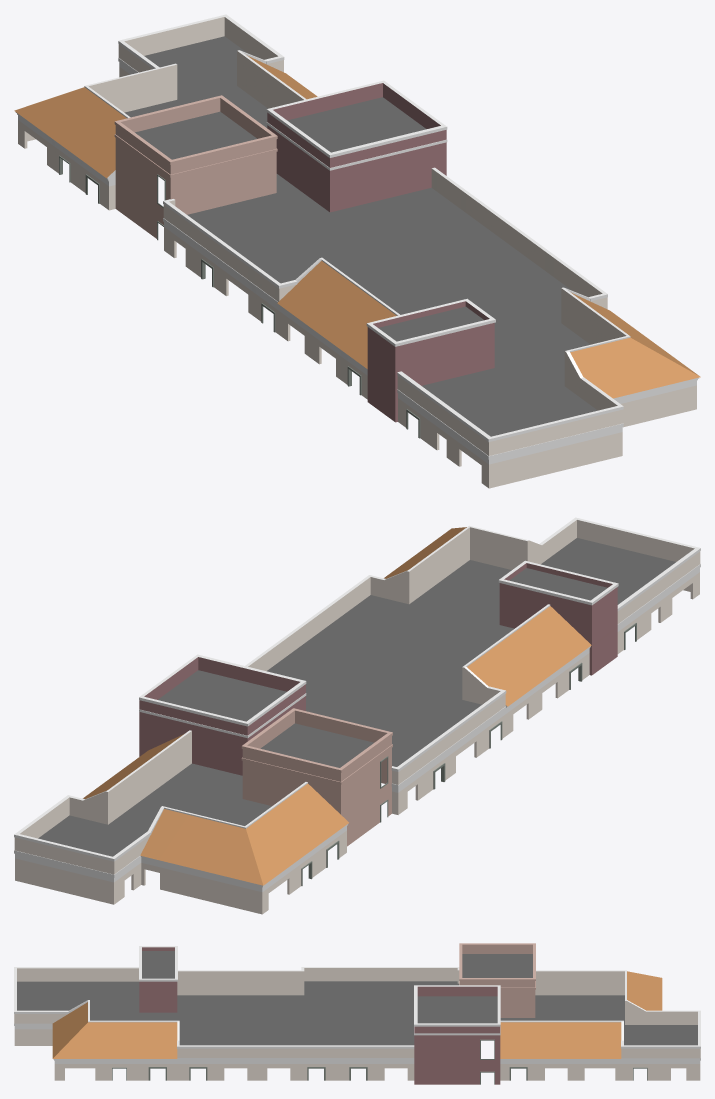
File: wall_4.fbx
The picture shows the model from 3 angles, top to bottom: view 1: azimuth 30°, elevation 25°; view 2: azimuth 150°, elevation 25°; view 3: azimuth 270°, elevation 25°; orthographic projection. The views are drawn at different scales.
Parts seen in each view (by area): view 1: wall_4; view 2: wall_4; view 3: wall_4.
Boxes of the visible parts, x1,y1,x2,y2 form: wall_4: (14, 14, 700, 488); wall_4: (14, 517, 700, 914); wall_4: (14, 943, 700, 1084).
Size of the model in its own units: 2099 by 695 by 7202.
